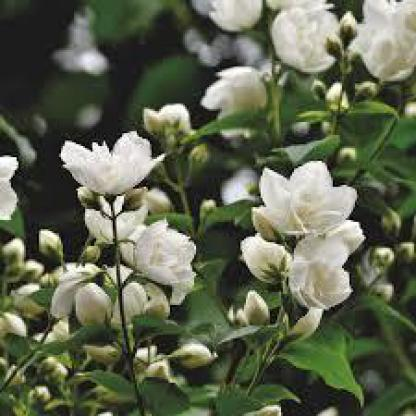Melati: (231, 167, 388, 334), (42, 110, 180, 206), (101, 223, 202, 299), (191, 36, 273, 125), (260, 7, 347, 70)
